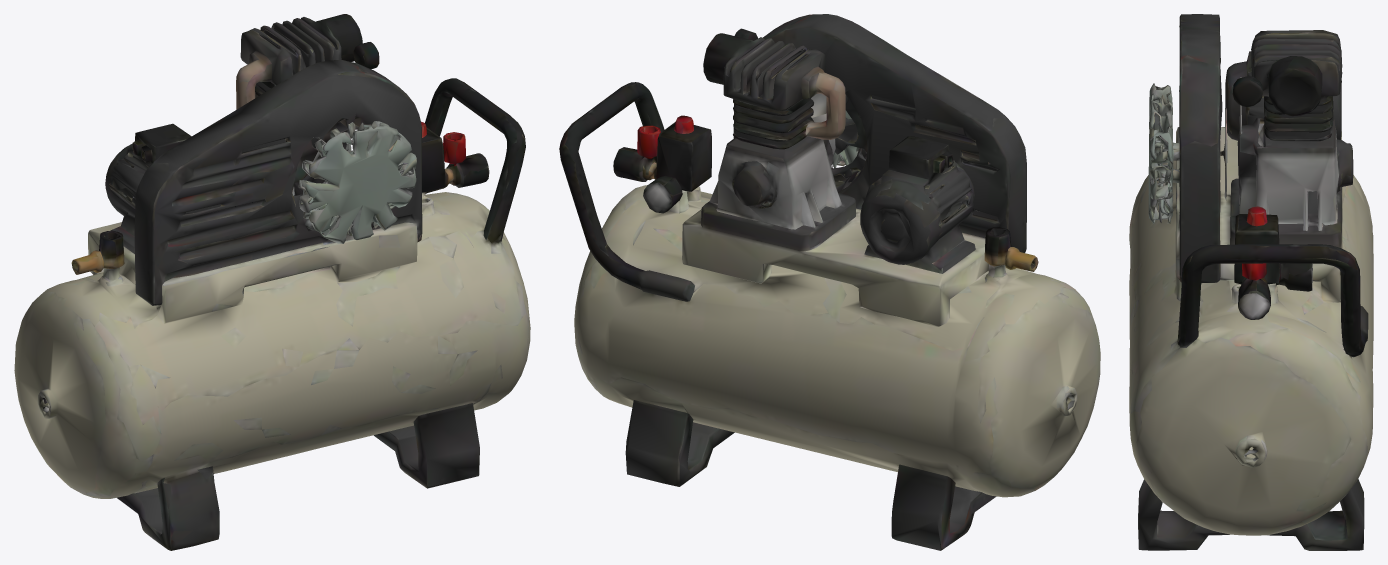
File: compressor.glb
The picture shows the model from 3 angles, left to right: view 1: azimuth 30°, elevation 25°; view 2: azimuth 150°, elevation 25°; view 3: azimuth 270°, elevation 25°; orthographic projection. The views are drawn at different scales.
Parts seen in each view (by area): view 1: geometry_0; view 2: geometry_0; view 3: geometry_0.
Part boxes in pixels (x1,y1,x2,y2): geometry_0: (14, 14, 530, 550); geometry_0: (559, 14, 1100, 550); geometry_0: (1129, 14, 1373, 550).
Bounding box in the file's own units: 1 × 0.8874 × 0.4339.
1 material, 1 textured.
